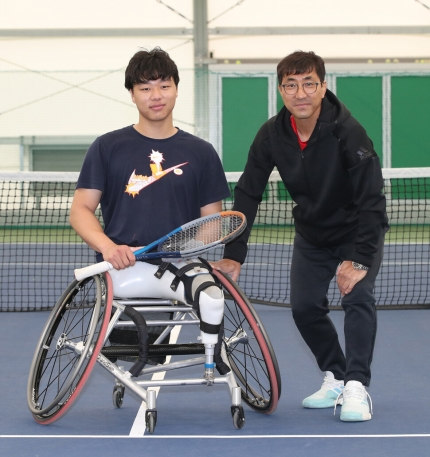wheelchair: (27, 47, 283, 436)
